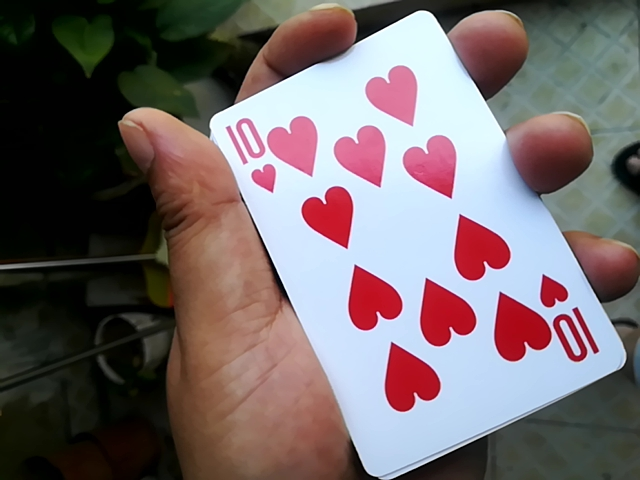hx 10: (211, 13, 621, 479)
